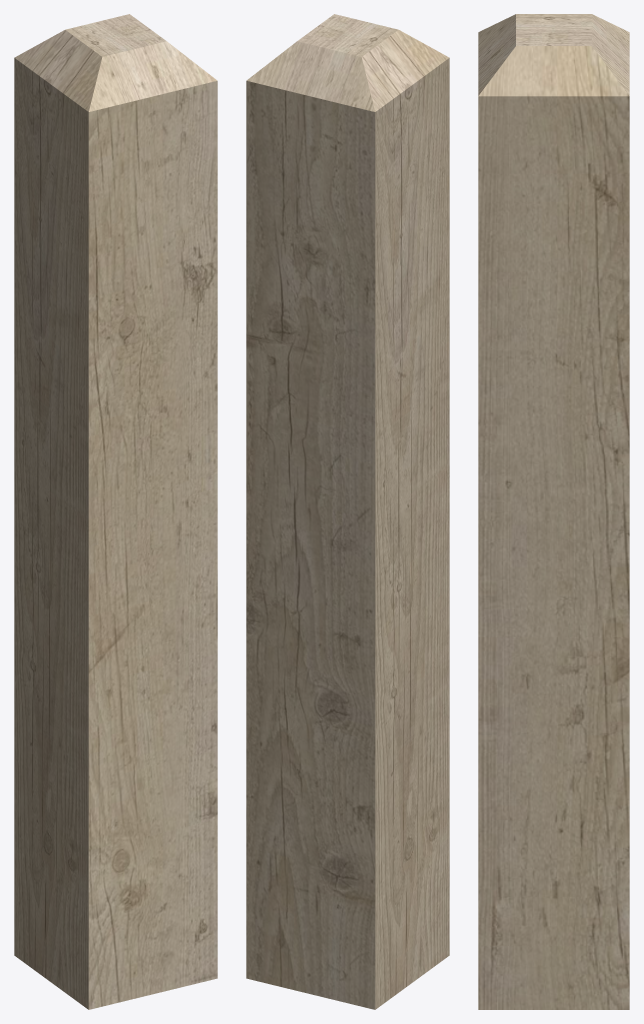
File: fence post.fbx
3 renders of one model, left to right at view 1: azimuth 30°, elevation 25°; view 2: azimuth 150°, elevation 25°; view 3: azimuth 270°, elevation 25°, orthographic.
Visible parts, largest first — view 1: pasted__pCube1; view 2: pasted__pCube1; view 3: pasted__pCube1.
Part boxes in pixels (bbox=[...]): pasted__pCube1: bbox=[14, 14, 217, 1009]; pasted__pCube1: bbox=[246, 14, 449, 1009]; pasted__pCube1: bbox=[478, 14, 629, 1009].
Size of the model in its own units: 1 by 6.91 by 1.
1 material, 1 textured.
